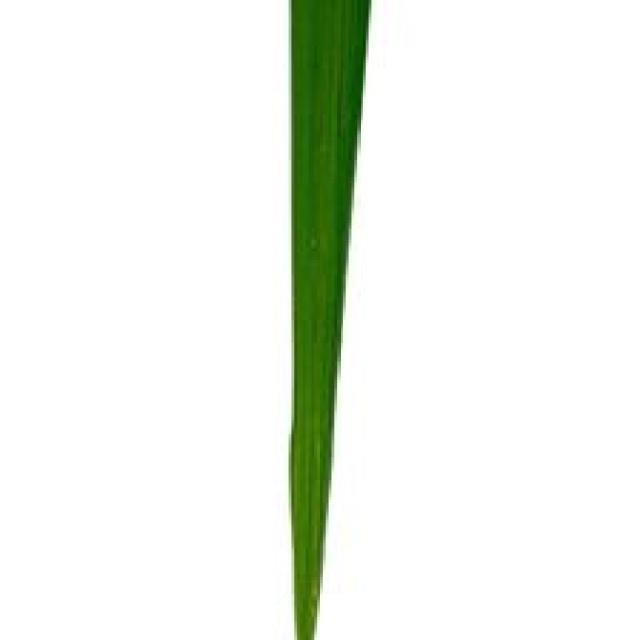Rice___Healthy_Rice_Plant: (288, 0, 370, 637)
